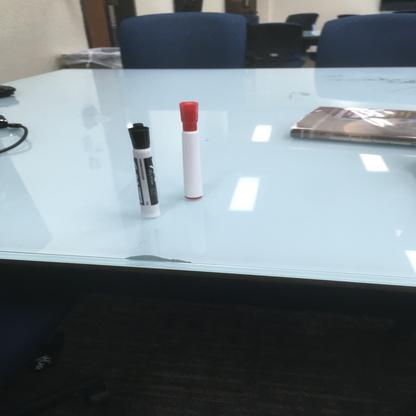expo_marker: (121, 117, 167, 221), (171, 98, 214, 205)
